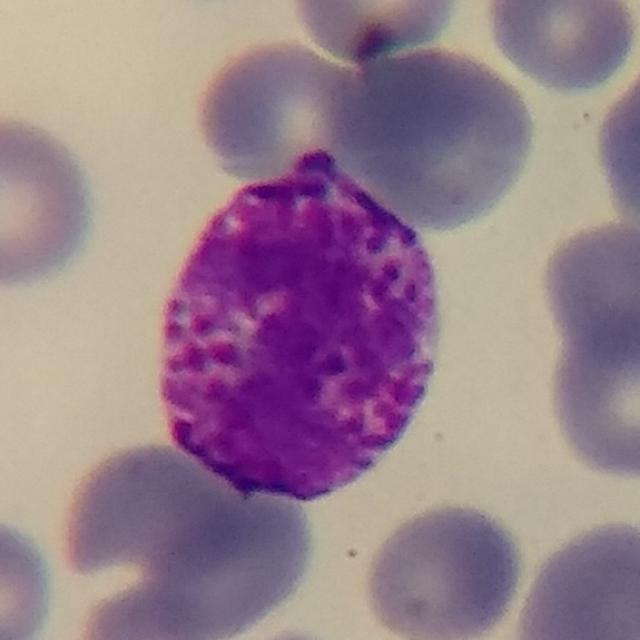Basophil: (133, 147, 460, 524)
RBC: (326, 39, 546, 235), (186, 34, 362, 192), (62, 438, 247, 578), (147, 490, 321, 636), (357, 497, 529, 640), (0, 108, 102, 295), (541, 305, 640, 485), (507, 514, 640, 640), (534, 217, 640, 372), (478, 0, 640, 95), (283, 0, 467, 63), (66, 573, 238, 640), (589, 49, 640, 243), (0, 511, 61, 640)
